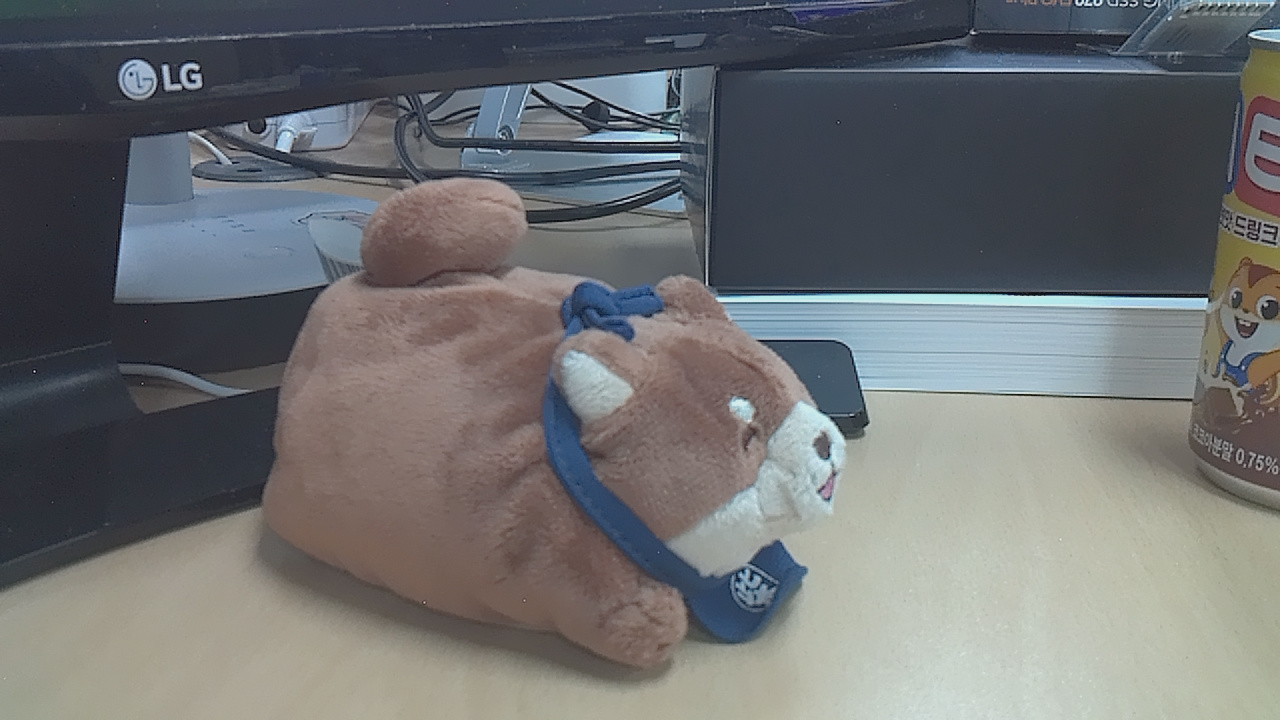cuteDog: (225, 153, 886, 703)
